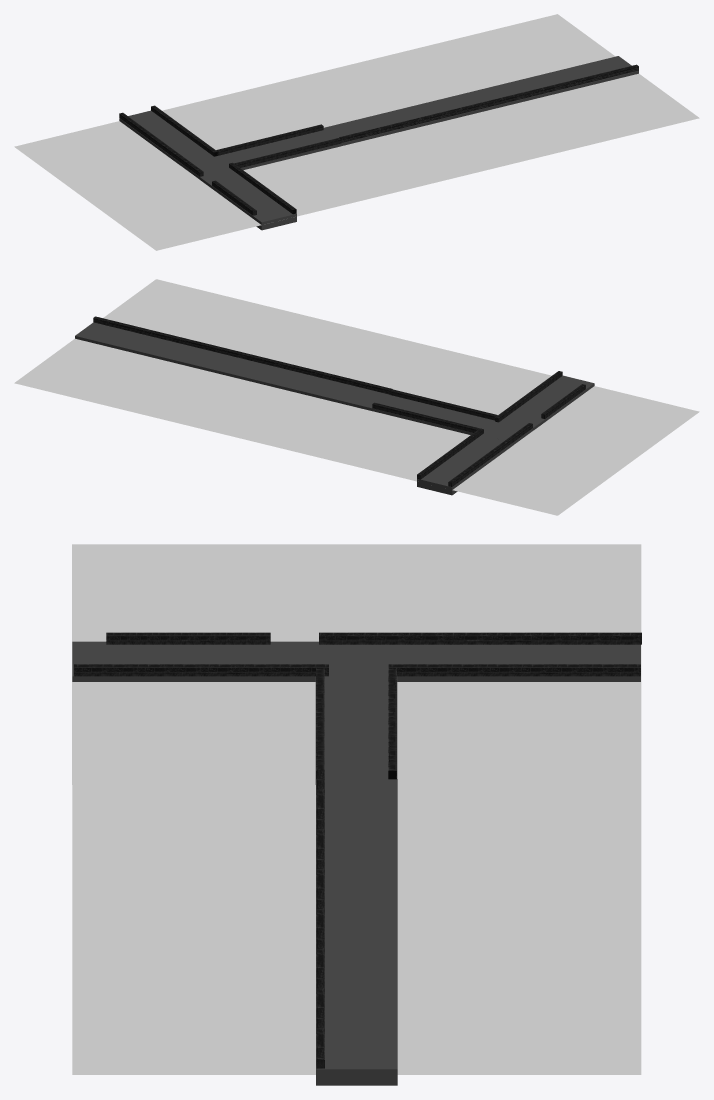
3 renders of one model, top to bottom at view 1: azimuth 30°, elevation 25°; view 2: azimuth 150°, elevation 25°; view 3: azimuth 270°, elevation 25°, orthographic. The views are drawn at different scales.
Parts seen in each view (by area): view 1: Plane.048, Cube.033, straight path.004, Cube.054, Cube.034, Cube.035, Cube.037, Cube.039, Cube.036; view 2: Plane.048, straight path.004, Cube.033, Cube.054, Cube.035, Cube.034, Cube.037, Cube.039, Cube.036; view 3: Plane.048, straight path.004, Cube.033, Cube.037, Cube.039, Cube.036, Cube.054, Cube.040, Cube.034, Cube.035.
Boxes of the visible parts, x1,y1,x2,y2 form: Plane.048: (14, 14, 699, 250); Cube.033: (119, 110, 341, 230); straight path.004: (323, 56, 638, 145); Cube.054: (339, 64, 638, 142); Cube.034: (216, 124, 323, 155); Cube.035: (234, 138, 341, 167); Cube.037: (119, 112, 203, 176); Cube.039: (229, 162, 296, 214); Cube.036: (151, 105, 217, 156); Plane.048: (14, 279, 699, 515); straight path.004: (75, 322, 390, 410); Cube.033: (372, 375, 594, 495); Cube.054: (93, 316, 392, 394); Cube.035: (390, 389, 497, 420); Cube.034: (372, 402, 479, 432); Cube.037: (448, 423, 532, 486); Cube.039: (495, 371, 562, 422); Cube.036: (417, 428, 483, 479); Plane.048: (72, 544, 641, 1074); straight path.004: (316, 779, 397, 1085); Cube.033: (72, 641, 640, 784); Cube.037: (319, 632, 641, 644); Cube.039: (74, 664, 328, 676); Cube.036: (388, 664, 640, 676); Cube.054: (316, 769, 324, 1068); Cube.040: (106, 632, 270, 644); Cube.034: (388, 668, 396, 779); Cube.035: (316, 668, 324, 778).
Size of the model in its own units: 15362 by 343 by 6969.
